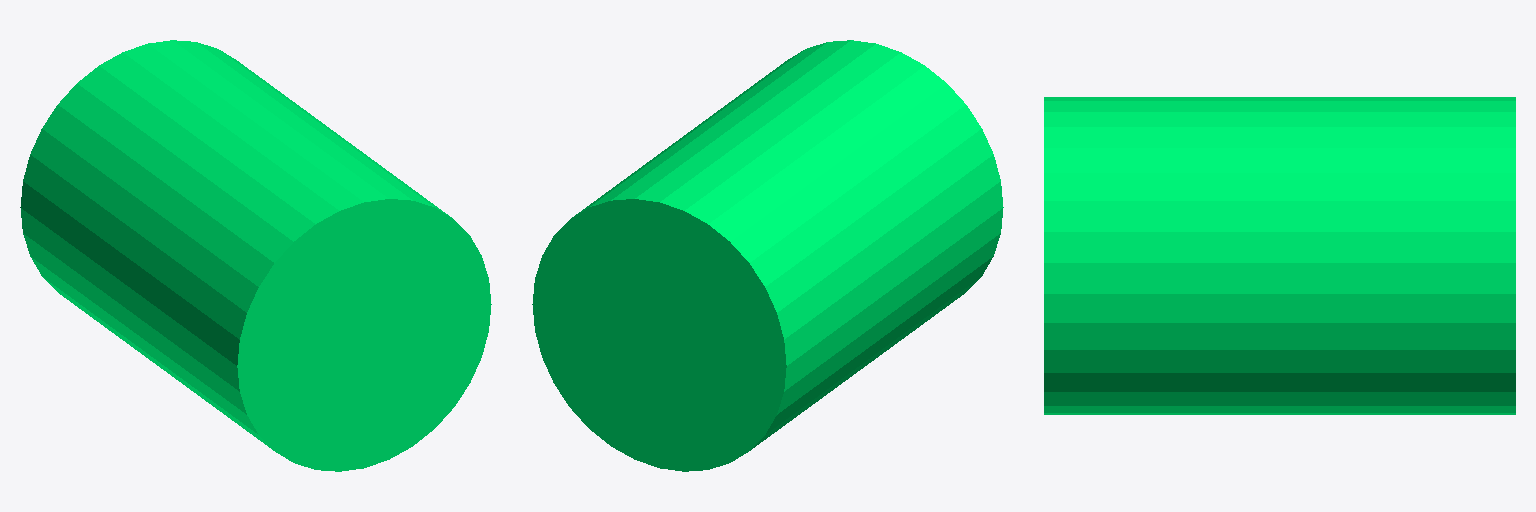
robot.urdf — myfirst:
<?xml version="1.0"?>
 <robot name="myfirst">
   <material name="green">
     <color rgba="0 1 0.498 1"/>
   </material>
   <link name="right_leg">
     <visual>
       <geometry>
         <cylinder length="0.1000" radius="0.033829689025878906"/>
       </geometry>
       <material name="green"/>
       <origin xyz="0 0 0" rpy="1.5707963 0 0"/>
     </visual>
     <collision>
       <geometry>
         <cylinder length="0.1000" radius="0.033829689025878906"/>
       </geometry>
       <origin xyz="0 0 0" rpy="1.5707963 0 0"/>
     </collision>
     <inertial>
       <mass value="1"/>
       <inertia ixx="1.0" ixy="0.0" ixz="0.0" iyy="1.0" iyz="0.0" izz="1.0"/>
     </inertial>
   </link>
 </robot>

--- Render facts (derived) ---
Views: 3 orthographic renders of the robot side by side, from view 1: azimuth 30°, elevation 25°; view 2: azimuth 150°, elevation 25°; view 3: azimuth 270°, elevation 25°.
Model myfirst with 1 links and 0 joints (none), rooted at right_leg, posed every joint at zero.
Links seen in each view (by area): view 1: right_leg; view 2: right_leg; view 3: right_leg.
Link boxes in pixels (box(x1,y1,x2,y2)): right_leg: box(20, 40, 491, 471); right_leg: box(532, 40, 1003, 471); right_leg: box(1044, 97, 1515, 414).
Bounding box of the posed robot: 0.0677 × 0.1 × 0.0677 m (x, y, z).
Geometry: primitives only (box / cylinder / sphere), no mesh files.